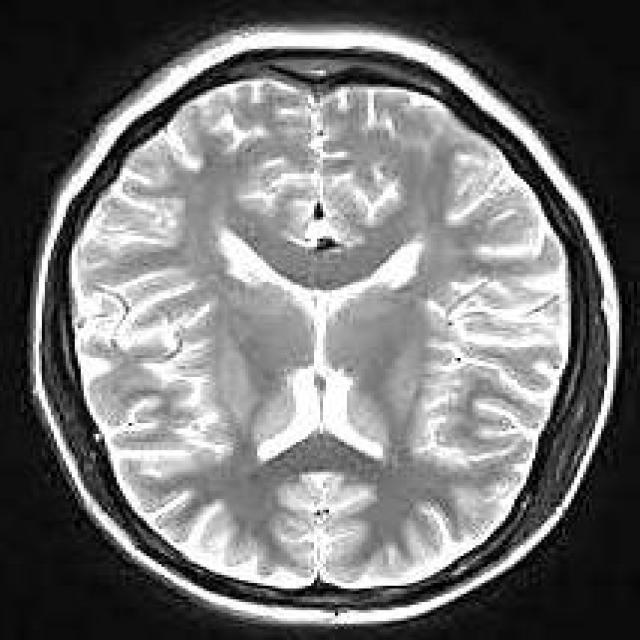notumor: (27, 27, 619, 621)
